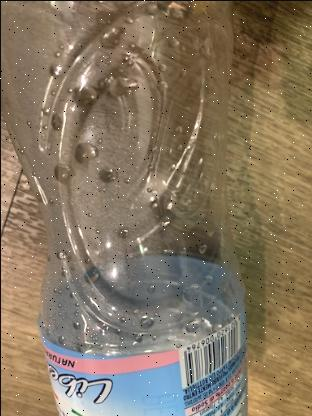Plastic Bottle: (0, 0, 258, 412)
